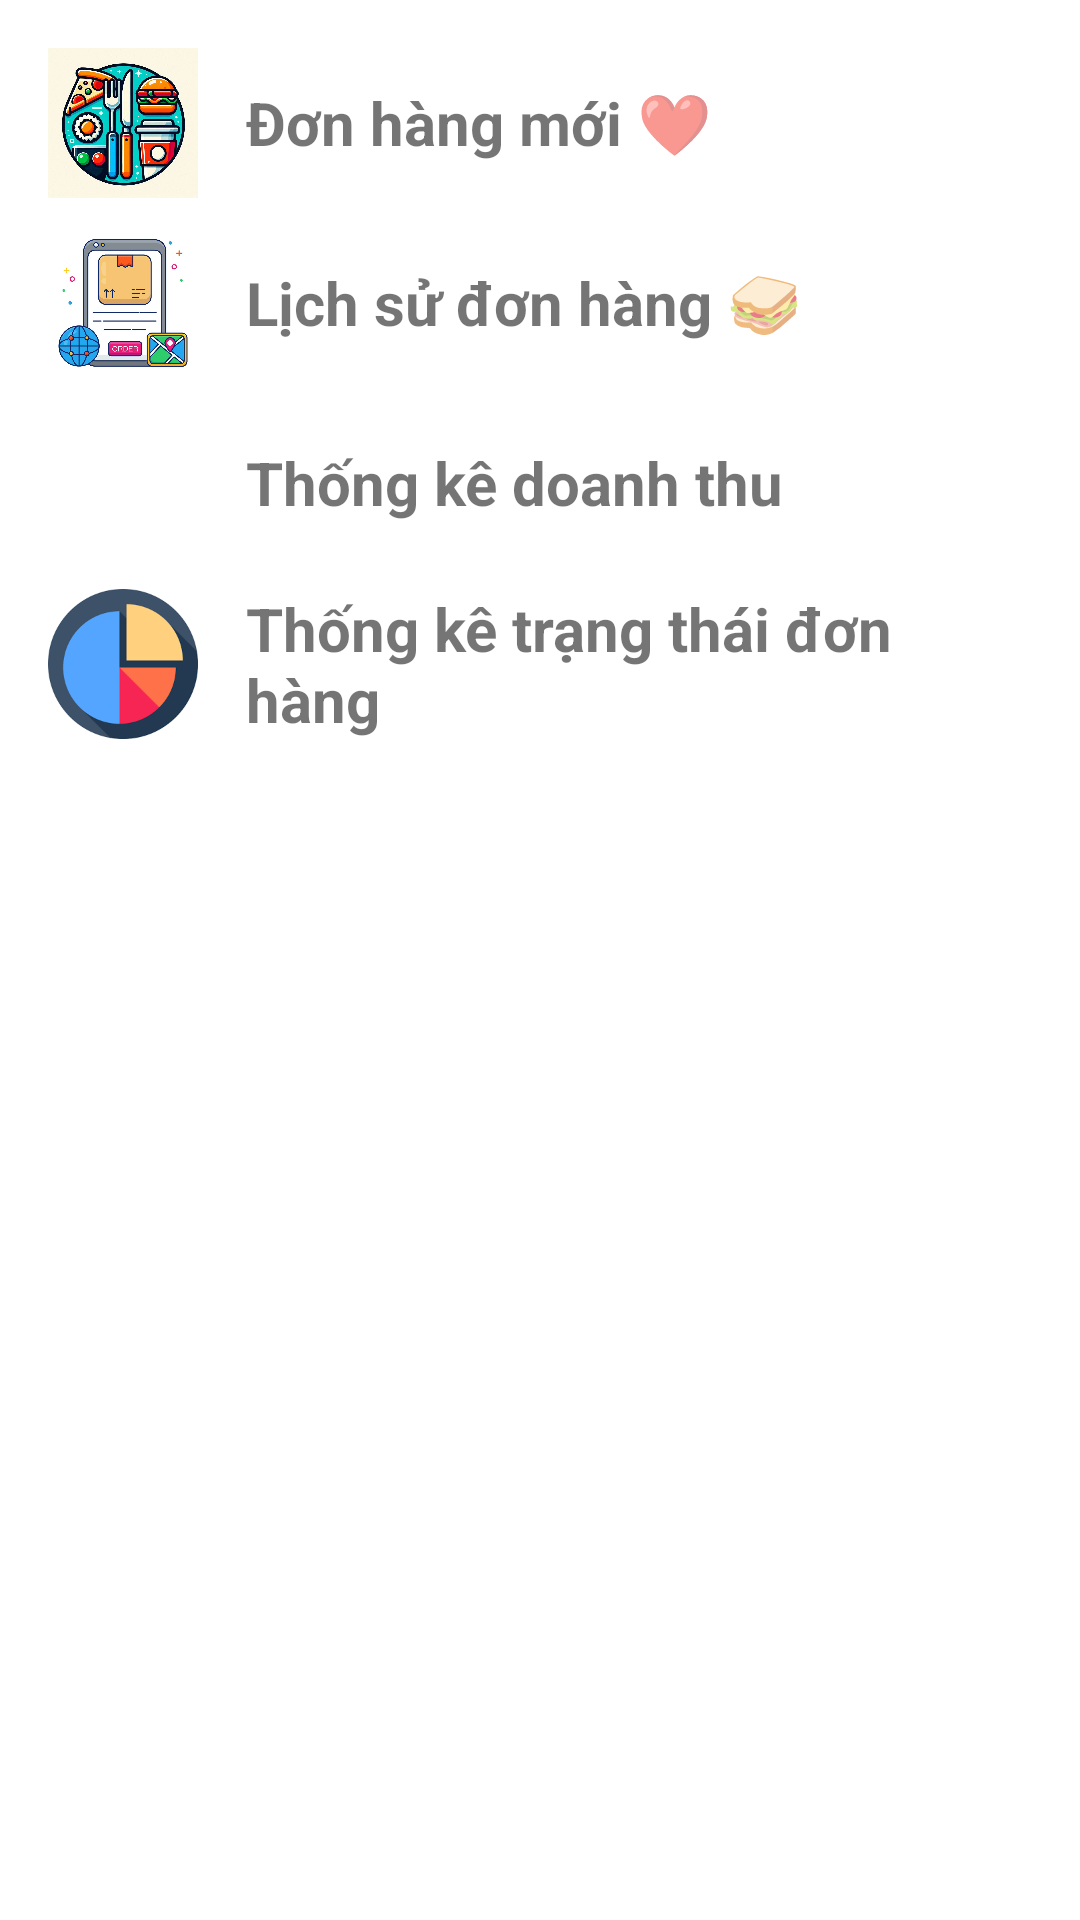

Point at icon controls on the screen. Image size 1080w x 1920h, points as (x,y).
history order: (123,303)
order: (123,123)
statistical status: (123,664)
